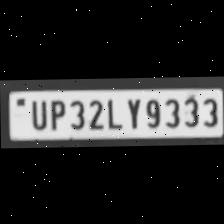2: (86, 97, 104, 130)
3: (198, 94, 220, 128), (65, 96, 85, 130), (179, 94, 199, 127), (160, 96, 180, 128)
9: (140, 96, 162, 128)
L: (102, 95, 122, 129)
P: (46, 97, 66, 129)
U: (27, 98, 47, 130)
Y: (122, 94, 142, 128)
